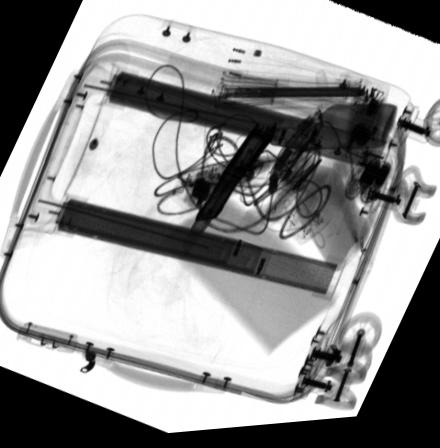Knife: (180, 123, 275, 258)
